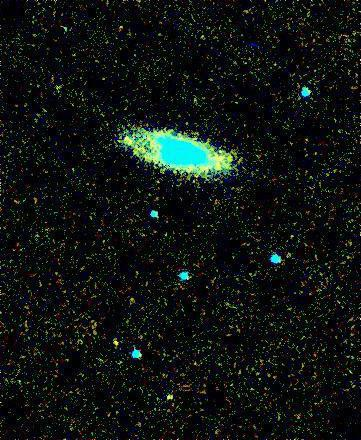star: (108, 329, 138, 359)
